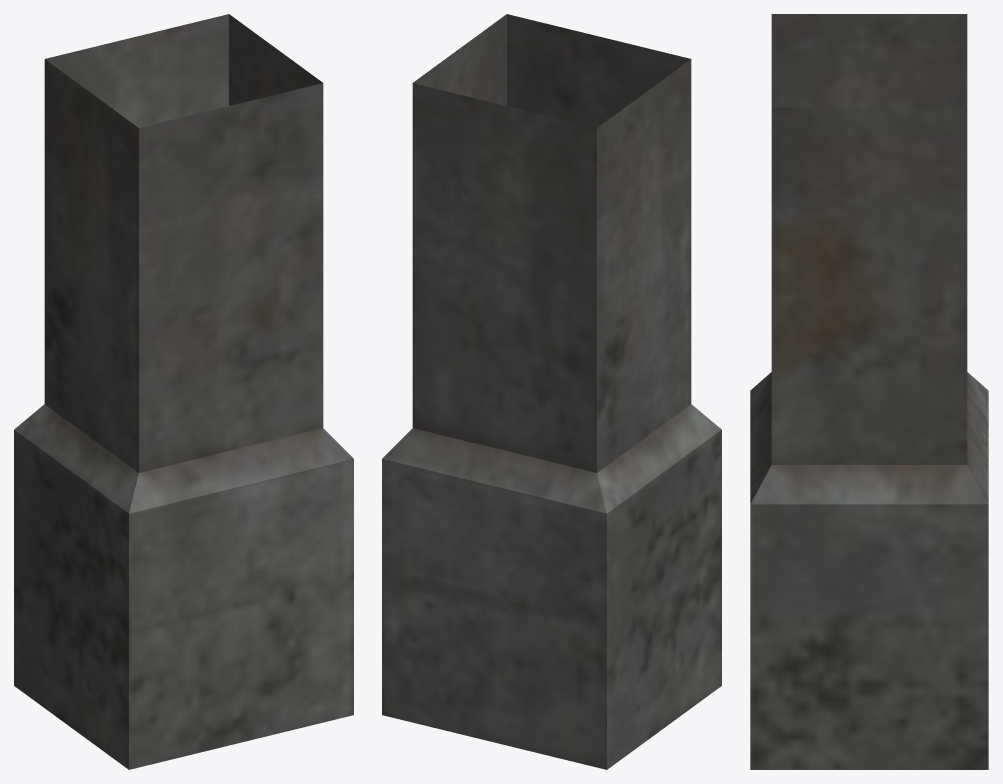
Rendered from Pillar.FBX.
The picture shows the model from 3 angles, left to right: view 1: azimuth 30°, elevation 25°; view 2: azimuth 150°, elevation 25°; view 3: azimuth 270°, elevation 25°; orthographic projection. The views are drawn at different scales.
Visible parts, largest first — view 1: Pillar; view 2: Pillar; view 3: Pillar.
Boxes of the visible parts, x1,y1,x2,y2 form: Pillar: (14, 14, 353, 769); Pillar: (382, 14, 721, 769); Pillar: (750, 14, 988, 769).
Size of the model in its own units: 174 by 467 by 154.
